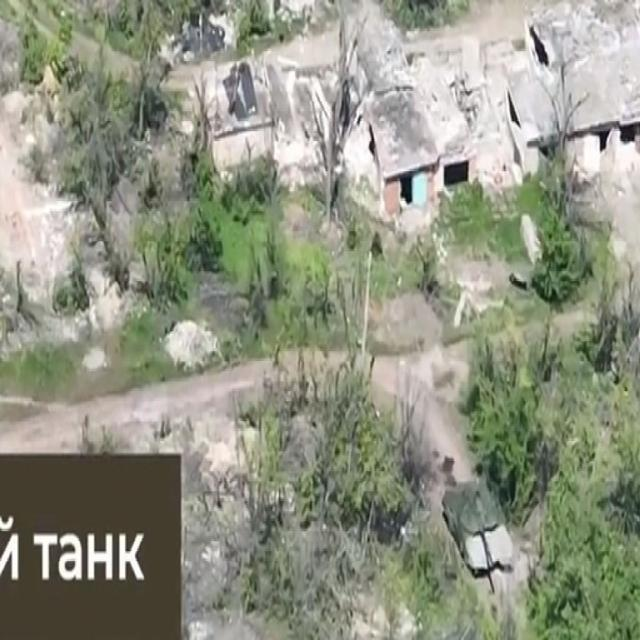TANK: (436, 464, 516, 586)
